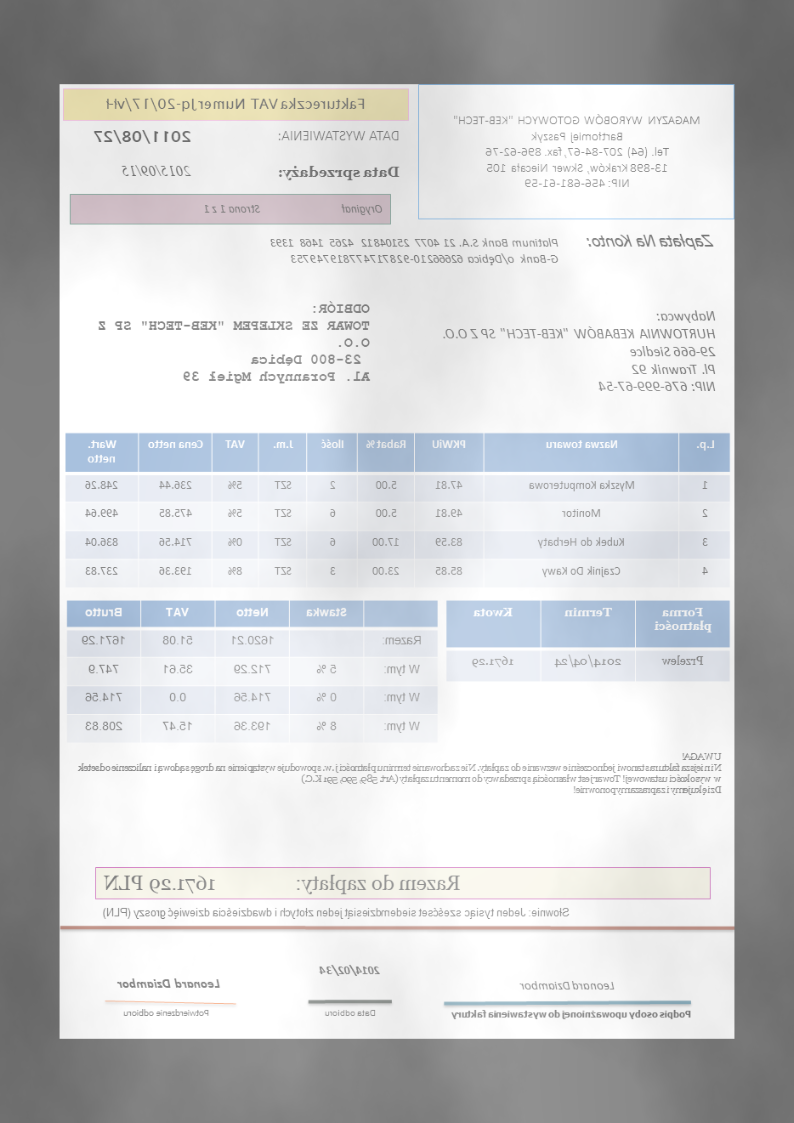Table: (65, 431, 731, 589), (65, 599, 440, 744), (445, 598, 731, 683)
TextBox: (76, 750, 724, 798), (94, 298, 373, 386), (442, 307, 719, 394), (451, 111, 703, 191), (101, 870, 462, 897), (267, 235, 561, 268), (103, 903, 571, 922), (105, 94, 368, 113), (449, 1006, 694, 1022), (204, 202, 384, 218), (586, 231, 716, 252), (275, 163, 402, 182), (277, 127, 402, 145), (93, 128, 193, 148), (517, 978, 617, 993), (117, 976, 224, 990), (121, 162, 192, 179), (318, 962, 382, 978), (122, 1007, 211, 1018), (324, 1006, 379, 1019)
